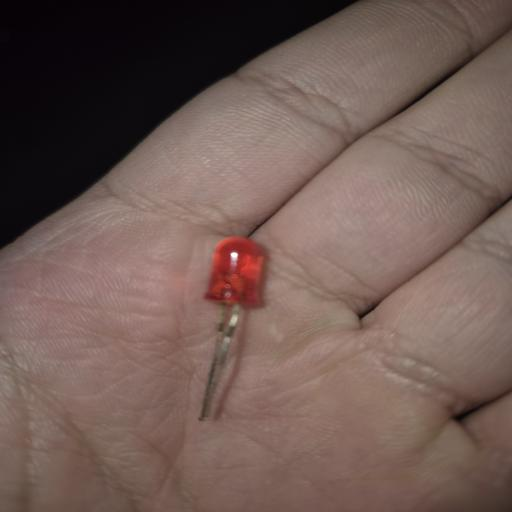led-diode: (199, 236, 264, 421)
